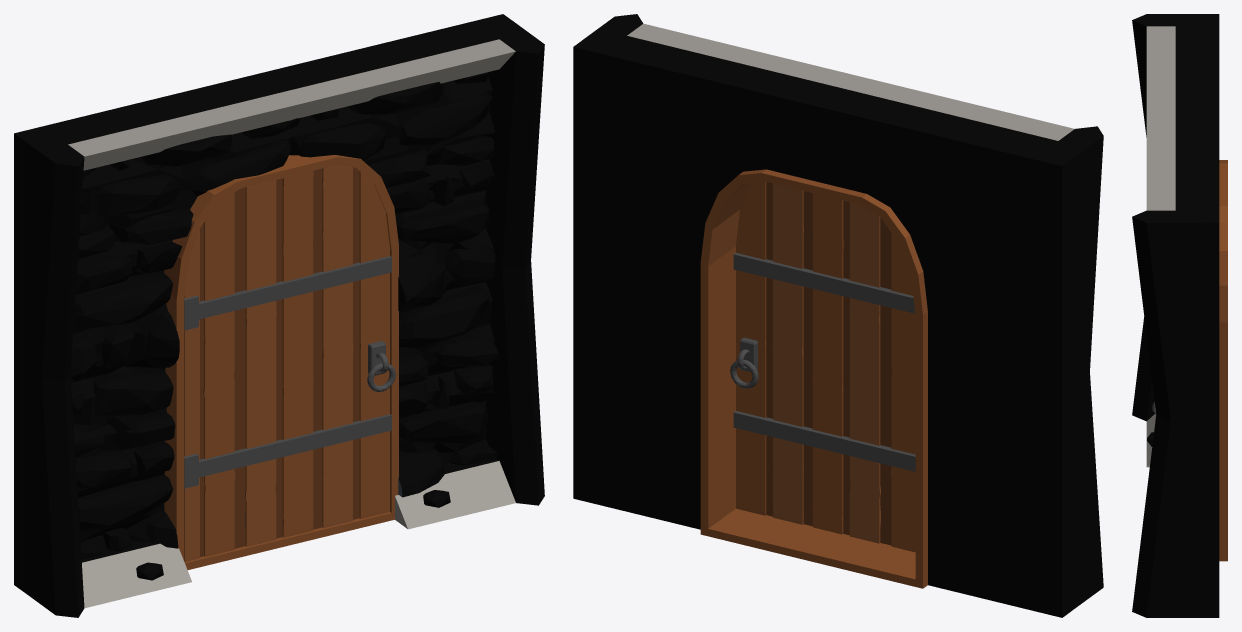
The model's file is Wall_door.fbx.
The picture shows the model from 3 angles, left to right: view 1: azimuth 30°, elevation 25°; view 2: azimuth 150°, elevation 25°; view 3: azimuth 270°, elevation 25°; orthographic projection. The views are drawn at different scales.
Parts seen in each view (by area): view 1: Cube.003, Cube.016, Cube.005; view 2: Cube.003, Cube.016, Cube.005; view 3: Cube.003, Cube.005.
Part boxes in pixels (x1,y1,x2,y2): Cube.003: [14, 14, 544, 617]; Cube.016: [184, 165, 395, 561]; Cube.005: [164, 155, 398, 569]; Cube.003: [573, 14, 1103, 617]; Cube.016: [730, 181, 915, 552]; Cube.005: [700, 169, 927, 588]; Cube.003: [1132, 14, 1219, 617]; Cube.005: [1219, 160, 1227, 561].
Bounding box in the file's own units: 6.8 × 6 × 1.32.
